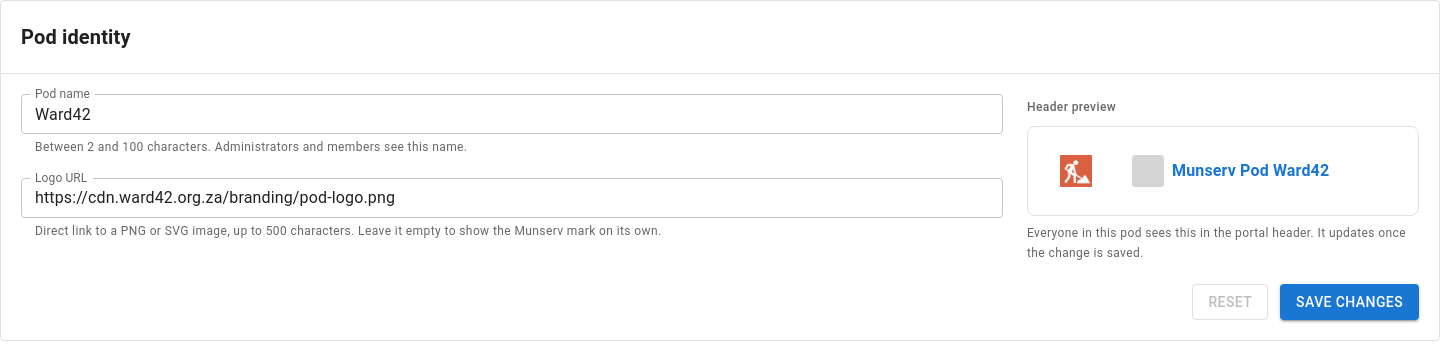
Test: PodIdentitySection › should restore the saved logo URL when reset is pressed
Replace the text in the field labelled "Logo URL" with "https://cdn.ward42.org.za/branding/wrong-logo.png" at (512, 198), box [21,178,1003,218]
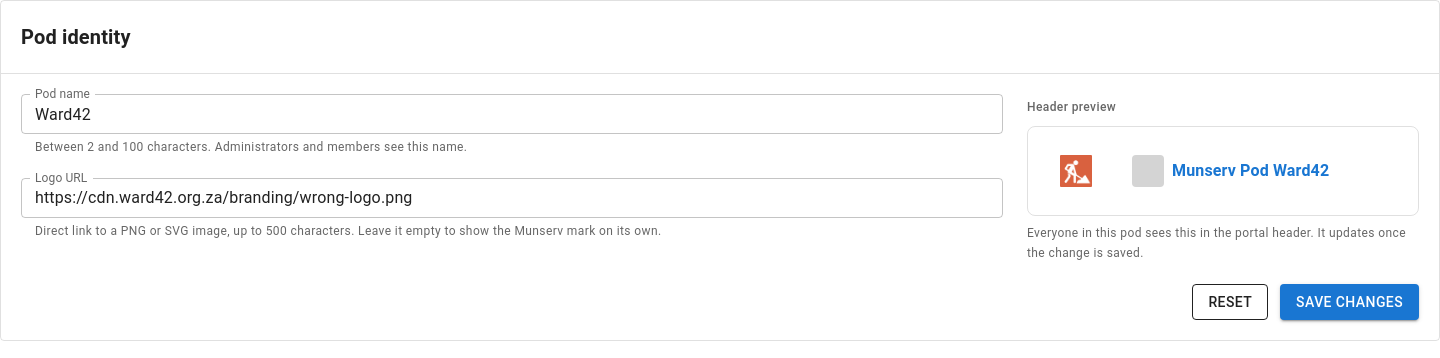
Expected: the button "Reset" is enabled
Click the button "Reset" at (1230, 302), box [1192,284,1268,320]
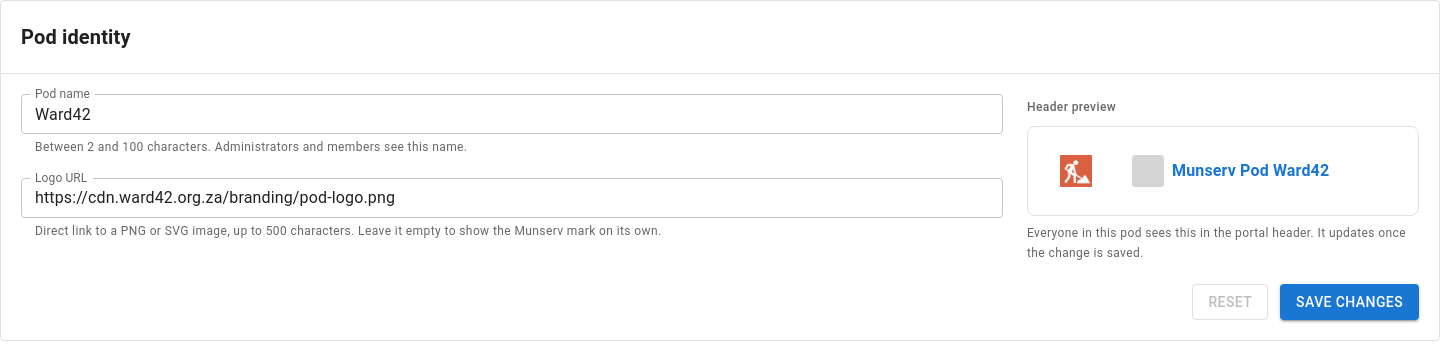
Expected: the field labelled "Logo URL" holds "https://cdn.ward42.org.za/branding/pod-logo.png", [21,178,1003,218]
Expected: the button "Reset" is disabled, [1192,284,1268,320]
